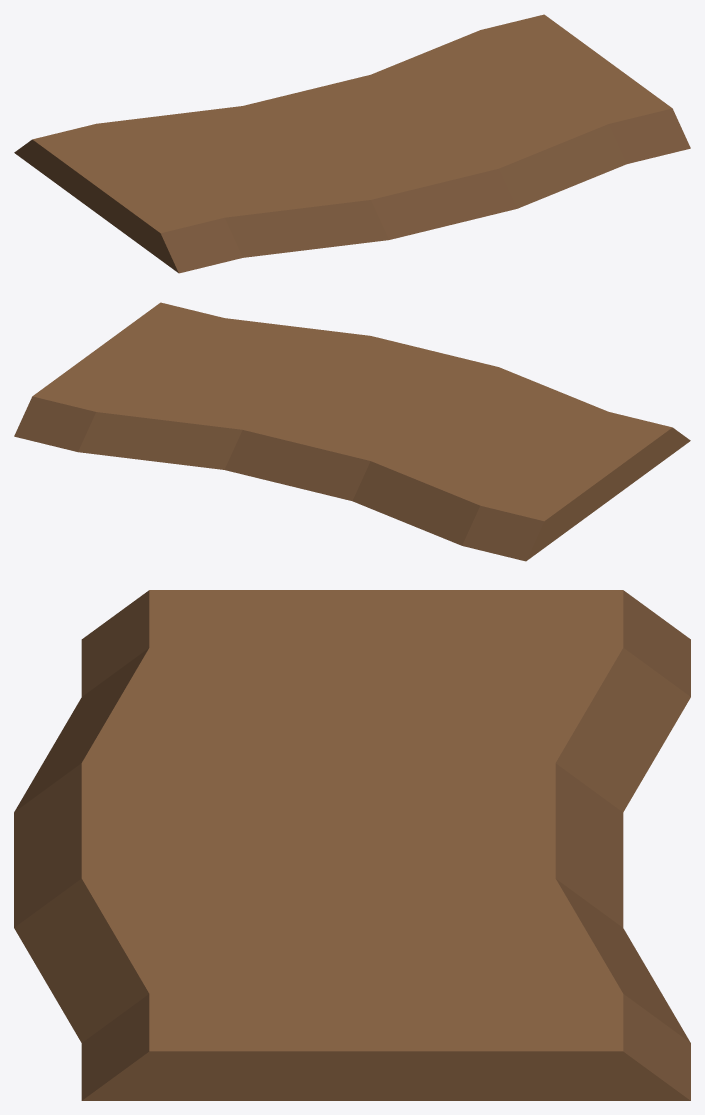
The model's file is crops_dirtRow.glb.
The picture shows the model from 3 angles, top to bottom: view 1: azimuth 30°, elevation 25°; view 2: azimuth 150°, elevation 25°; view 3: azimuth 270°, elevation 25°; orthographic projection. The views are drawn at different scales.
Parts seen in each view (by area): view 1: crops_dirtRow; view 2: crops_dirtRow; view 3: crops_dirtRow.
Part boxes in pixels (x1,y1,x2,y2): crops_dirtRow: [14, 14, 690, 273]; crops_dirtRow: [14, 302, 690, 561]; crops_dirtRow: [14, 590, 690, 1100].
Size of the model in its own units: 1 by 0.05 by 0.62.
